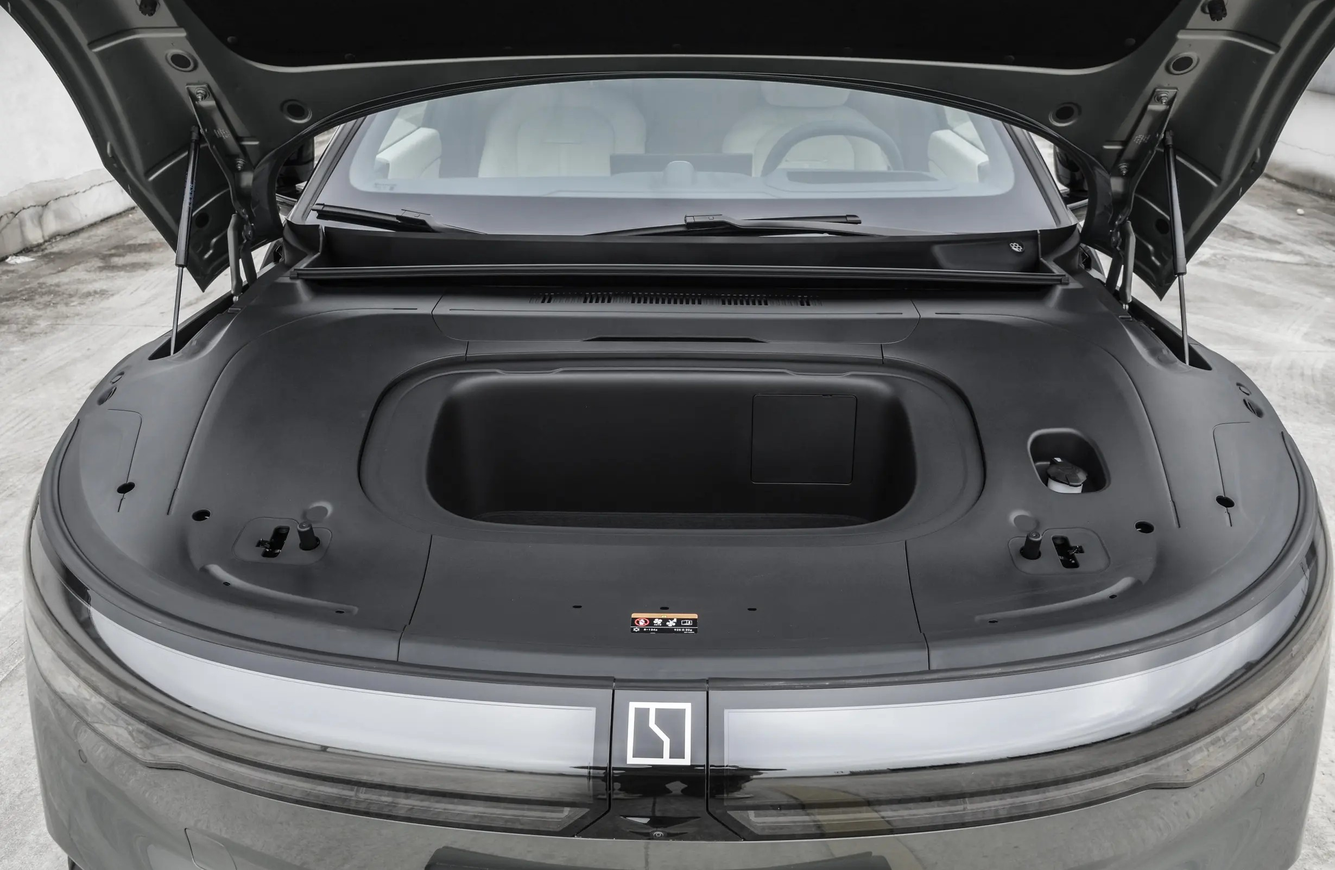ZEEKR: (627, 702, 691, 765)
